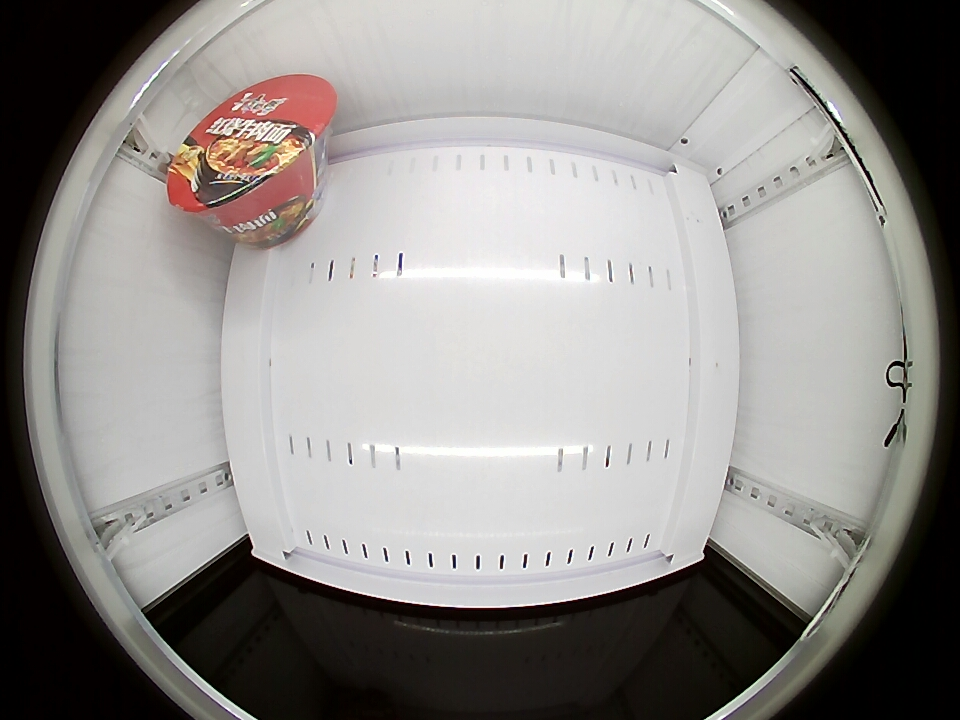hongshaoniurou: (167, 75, 336, 223)
